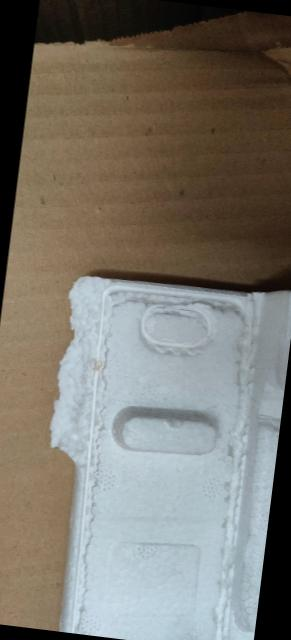cardboard paper: (0, 12, 291, 632), (262, 43, 291, 56)
